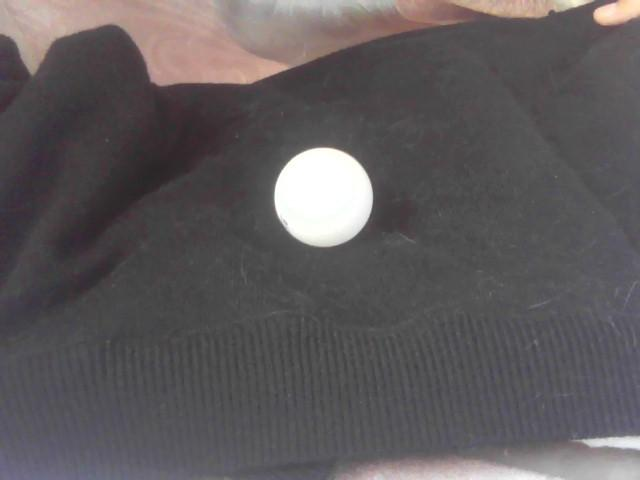ball: (275, 149, 373, 246)
